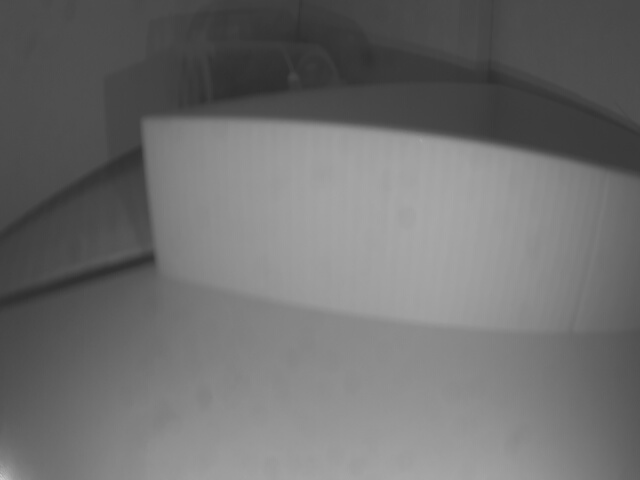Point: (140, 117, 640, 334)
